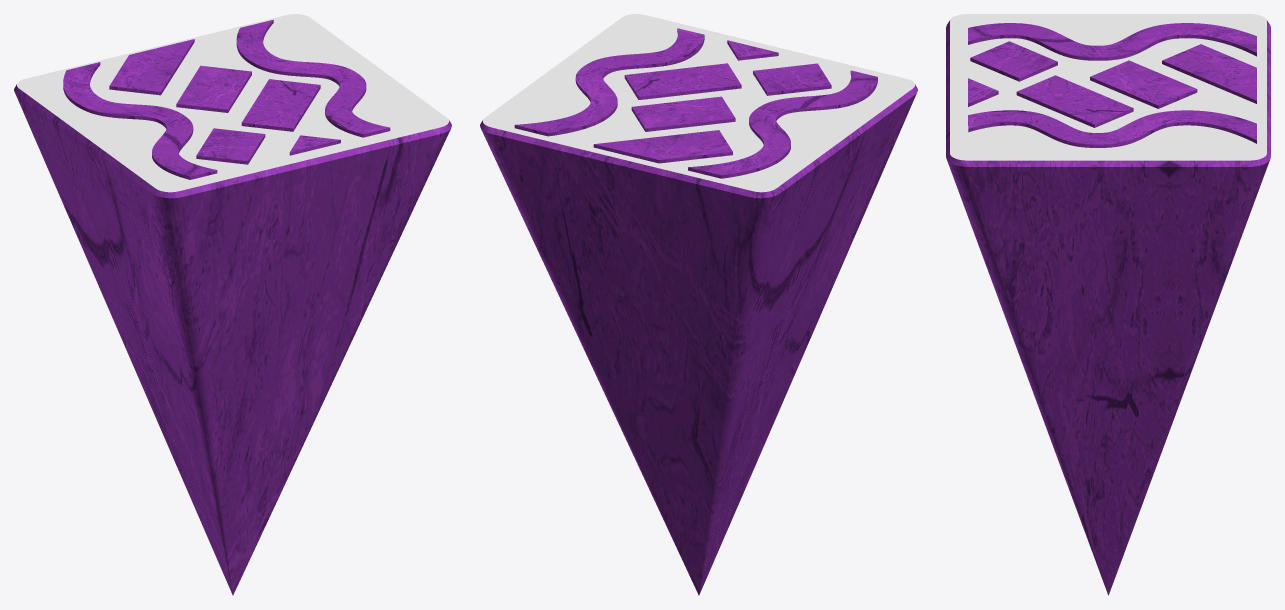
The model's file is fbxToGlth.gltf.
3 views of the same model, side by side, from view 1: azimuth 30°, elevation 25°; view 2: azimuth 150°, elevation 25°; view 3: azimuth 270°, elevation 25° (orthographic). The views are drawn at different scales.
Visible parts, largest first — view 1: Rectangle009, Rectangle011; view 2: Rectangle009, Rectangle011; view 3: Rectangle009, Rectangle011.
Boxes of the visible parts, x1,y1,x2,y2 form: Rectangle009: (14,14,451,595); Rectangle011: (63,19,390,179); Rectangle009: (480,14,917,595); Rectangle011: (514,28,877,178); Rectangle009: (946,14,1270,595); Rectangle011: (968,23,1256,147).
Size of the model in its own units: 22.71 by 36.25 by 20.83.
3 materials, 2 textured.
